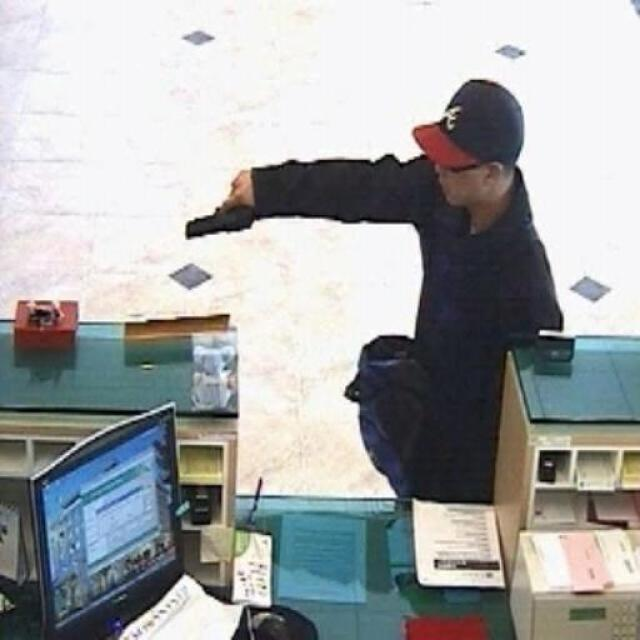pistol: (185, 186, 260, 237)
